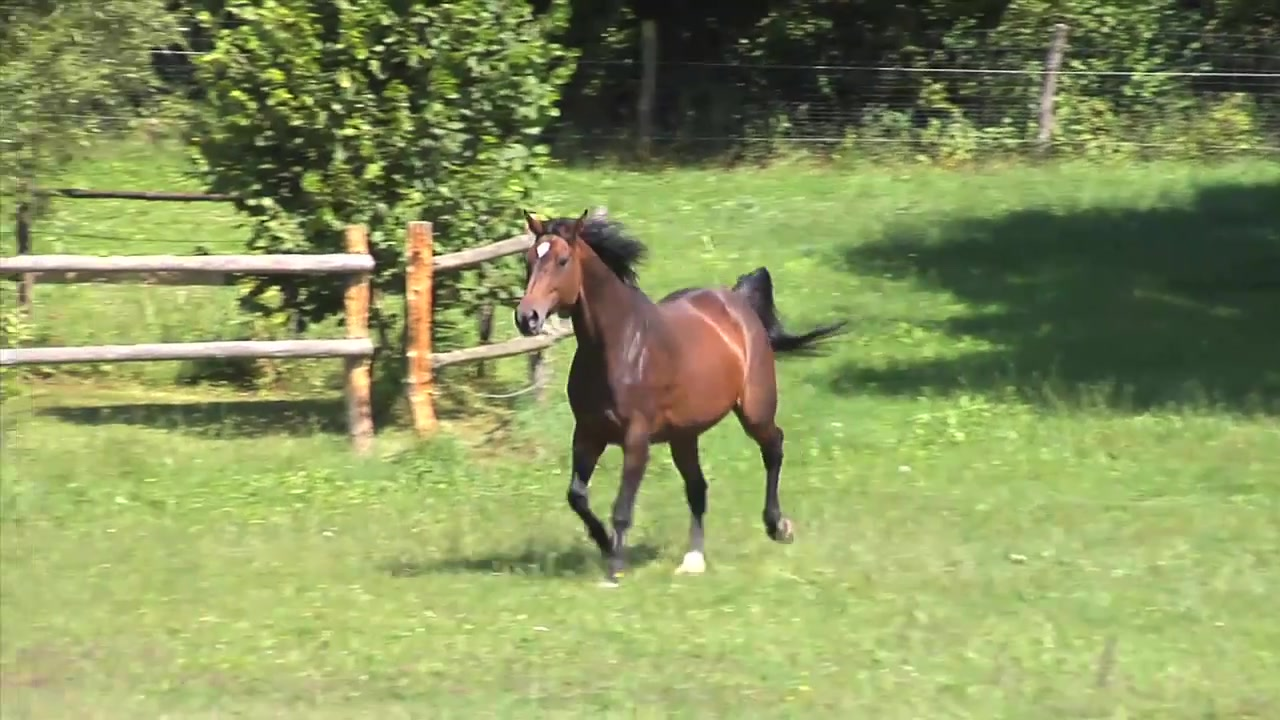horse: (513, 211, 855, 586)
